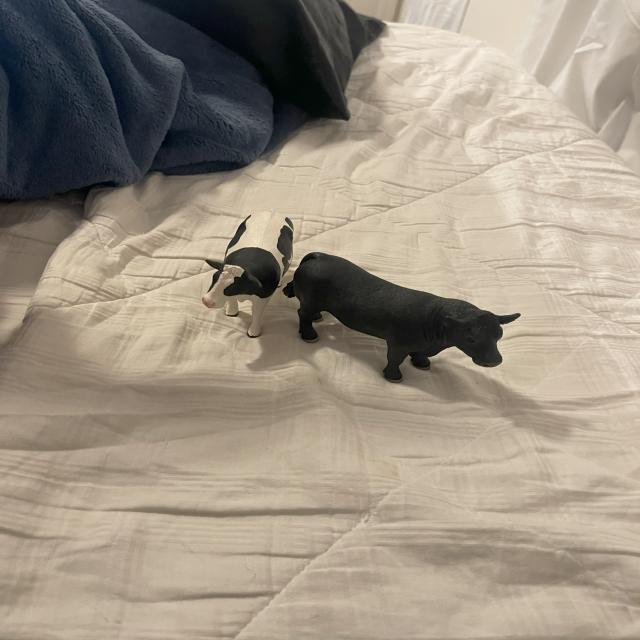cow: (292, 234, 521, 390), (196, 219, 301, 326)
